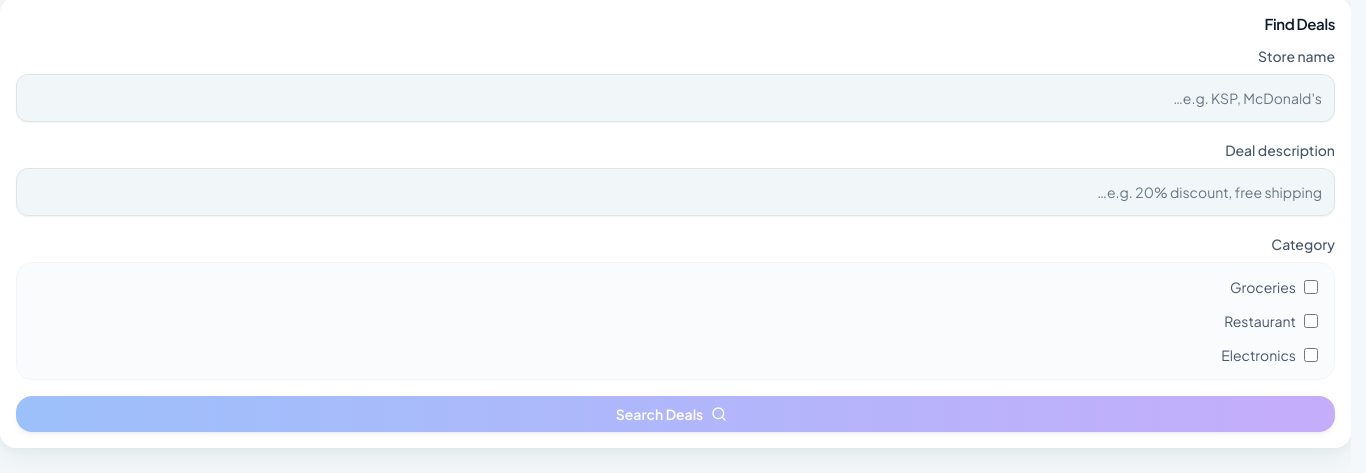
Test: DealFilters › clears all filters when clear button is clicked
Step 1. Type "test store" into the search field with placeholder "e.g. KSP, McDonald's…" → (676, 98), box left=16, top=74, right=1335, bottom=122
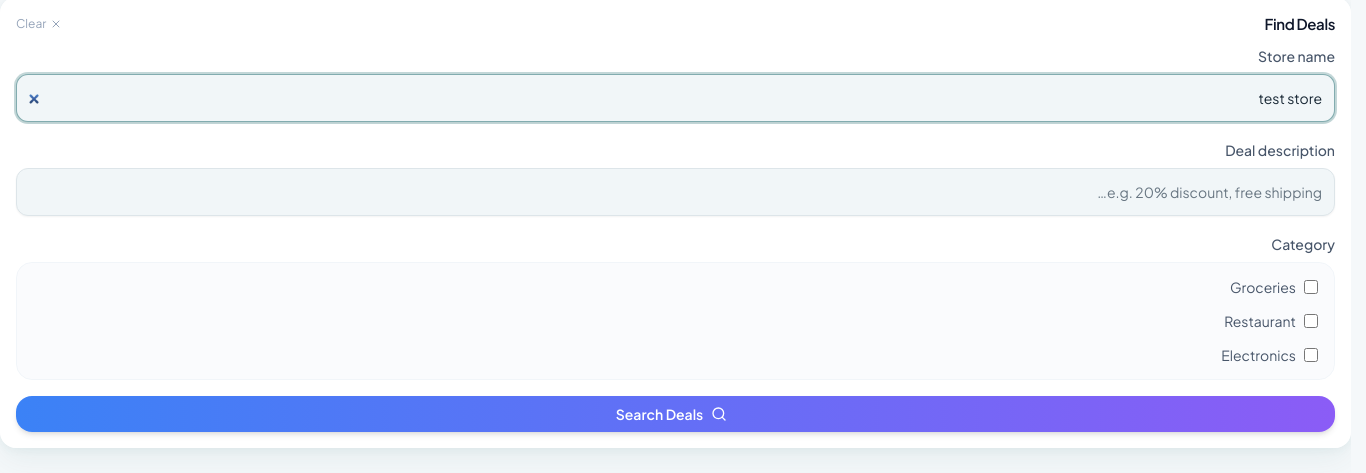
Step 2. Click the button "Clear" → (39, 24), box left=16, top=16, right=62, bottom=32
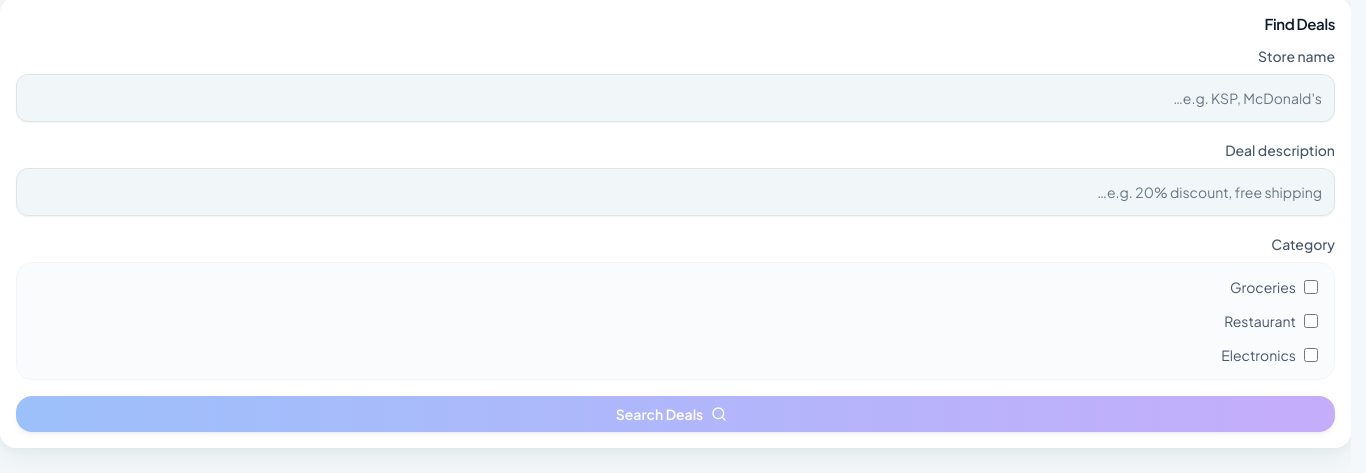
Result: the search field with placeholder "e.g. KSP, McDonald's…" is empty at left=16, top=74, right=1335, bottom=122
Result: the button "Search Deals" is disabled at left=16, top=396, right=1335, bottom=432
